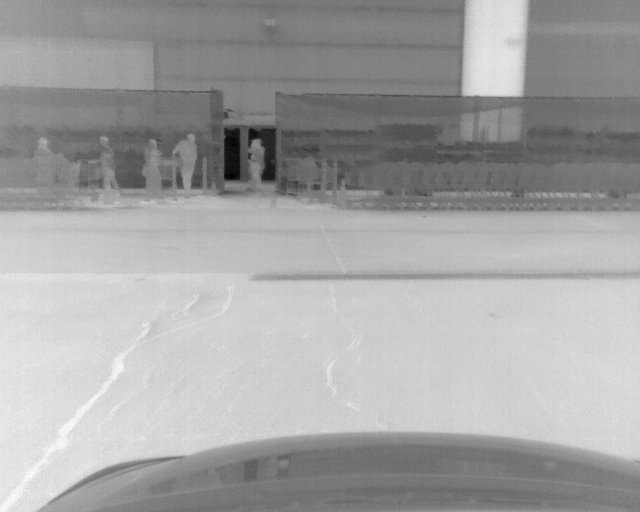people: (86, 134, 121, 205), (172, 133, 196, 199), (143, 138, 164, 203), (246, 138, 264, 192), (33, 137, 65, 159)
